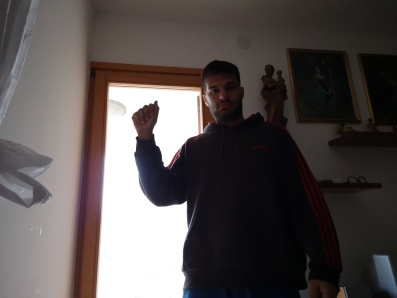A: (131, 99, 161, 131)
